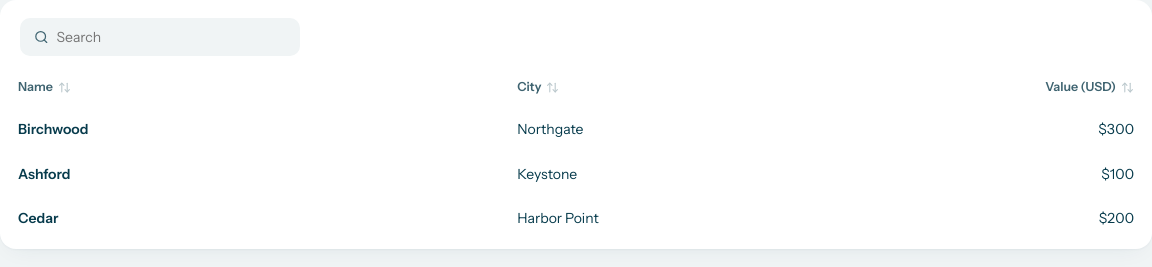
DataTable › says when the search matches nothing
Type "zzz" into the search field named "Search places" at (171, 37), box [57,27,286,47]
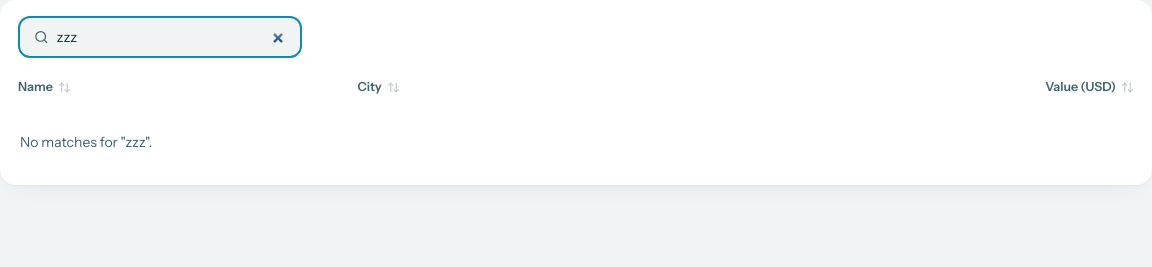
Check: the text "No matches for \"zzz\"." is shown, box [20,133,152,151]
